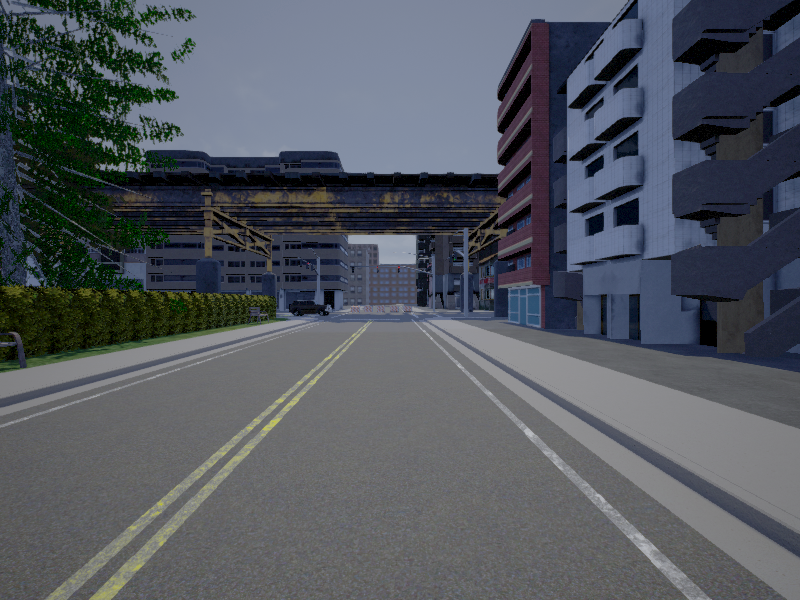Benign: (288, 299, 331, 319)
